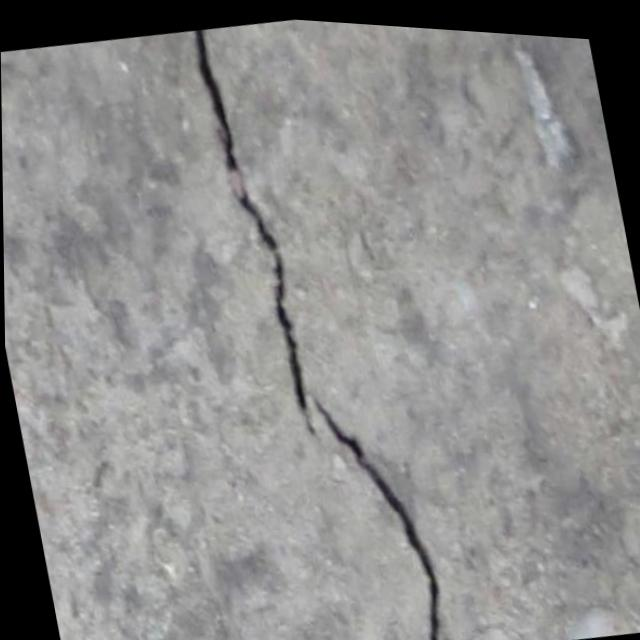Crack: (188, 10, 458, 640)
